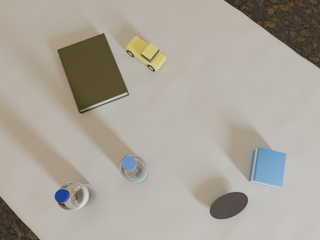book: (57, 33, 129, 113)
bottle: (55, 182, 97, 210), (120, 154, 148, 183)
box: (249, 148, 286, 187)
mouse: (210, 192, 248, 219)
toy_car: (126, 36, 166, 71)
